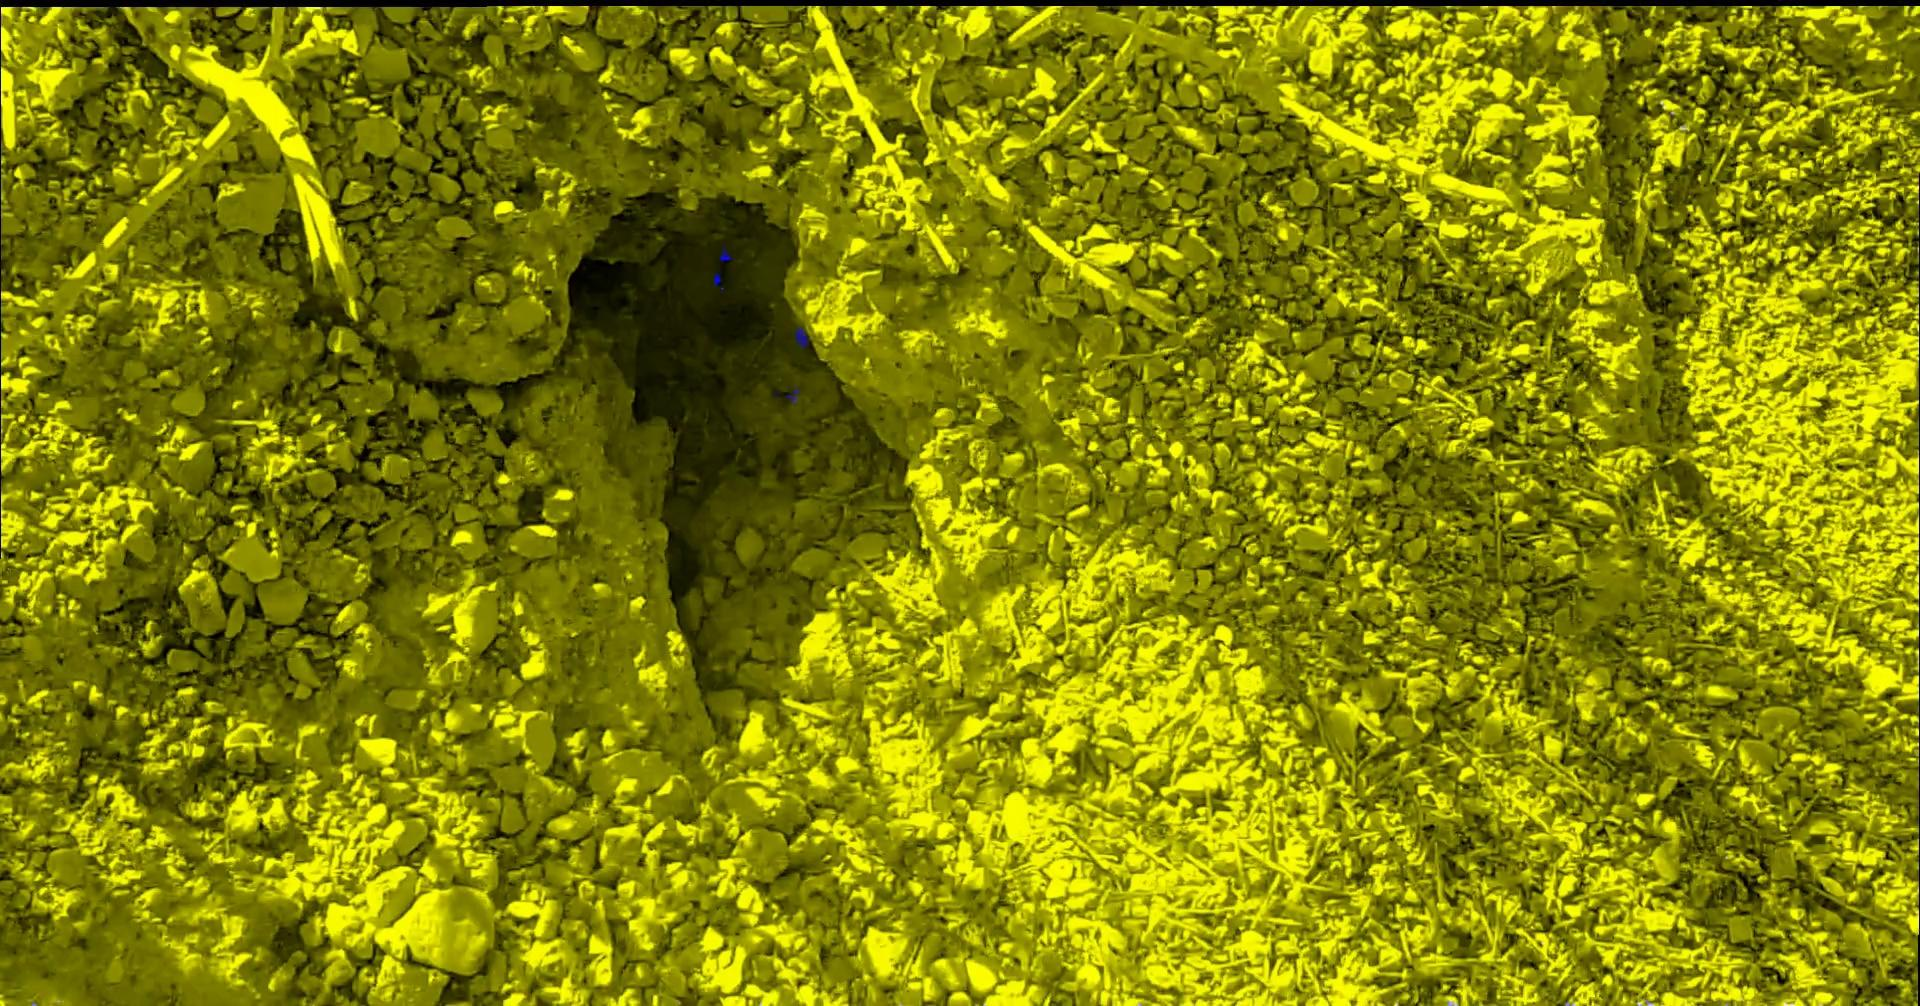ant: (794, 326, 808, 347), (785, 387, 799, 401), (719, 246, 731, 260)
